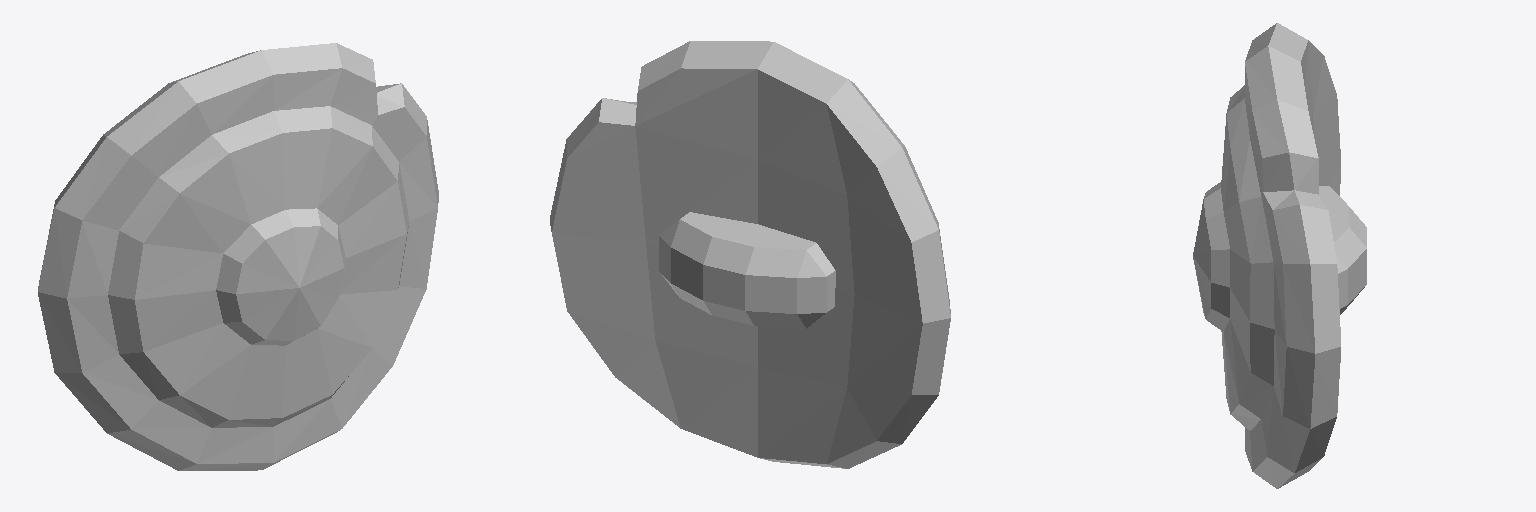
The model's file is shield_round_barbarian_Large.obj.
The picture shows the model from 3 angles: view 1: azimuth 30°, elevation 25°; view 2: azimuth 150°, elevation 25°; view 3: azimuth 270°, elevation 25°; orthographic projection.
Parts seen in each view (by area): view 1: shield_round_barbarian_Large; view 2: shield_round_barbarian_Large; view 3: shield_round_barbarian_Large.
Boxes of the visible parts, x1=… form: shield_round_barbarian_Large: x1=38, y1=43, x2=438, y2=470; shield_round_barbarian_Large: x1=550, y1=41, x2=950, y2=468; shield_round_barbarian_Large: x1=1193, y1=23, x2=1366, y2=488.
Bounding box in the file's own units: 1.77 × 1.77 × 0.6639.